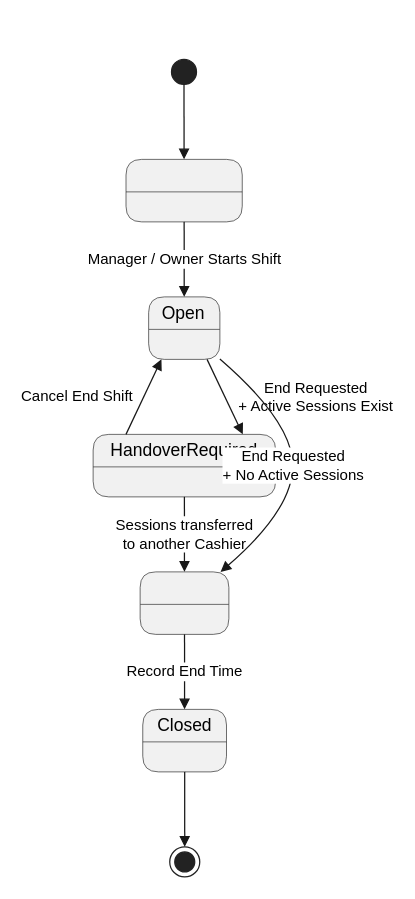
This 415x899 diagram has some shape labels left out. Here are the shapes that lost their labels. From the top down, the box of each, then its label:
(125, 158, 242, 222): NotStarted
(139, 571, 229, 634): Closing
